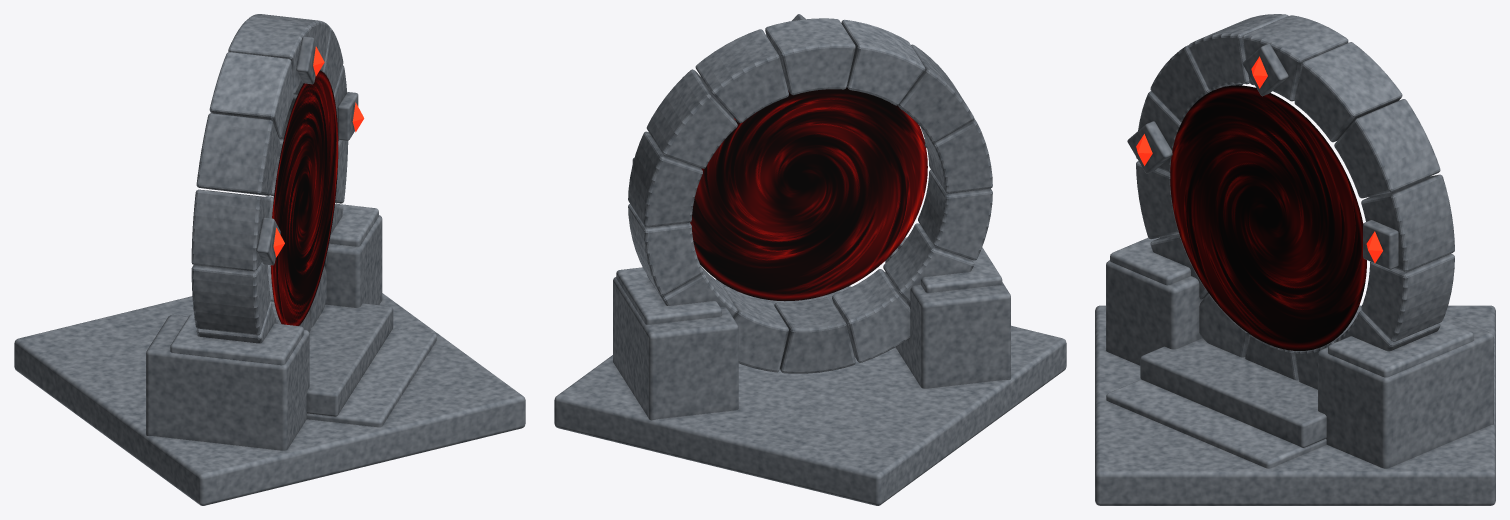
The model's file is EntrancePortal.fbx.
3 views of the same model, side by side, from view 1: azimuth 30°, elevation 25°; view 2: azimuth 150°, elevation 25°; view 3: azimuth 270°, elevation 25° (orthographic). The views are drawn at different scales.
Visible parts, largest first — view 1: PortalStone, PortalVortex, PortalInlays; view 2: PortalStone, PortalVortex; view 3: PortalStone, PortalVortex, PortalInlays.
Boxes of the visible parts, x1,y1,x2,y2 form: PortalStone: (14, 14, 525, 505); PortalVortex: (270, 71, 338, 325); PortalInlays: (273, 46, 364, 257); PortalStone: (554, 14, 1066, 505); PortalVortex: (690, 86, 927, 301); PortalStone: (1095, 14, 1495, 505); PortalVortex: (1170, 85, 1366, 350); PortalInlays: (1136, 56, 1382, 263).
Size of the model in its own units: 2.95 by 3.16 by 2.95.
Materials: 3 (2 with a texture image).
